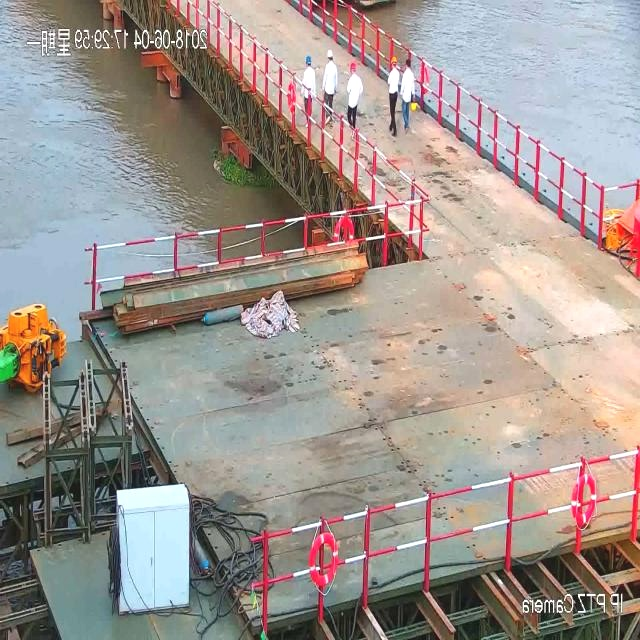Con_Casco: (349, 62, 356, 75), (327, 49, 333, 62), (390, 57, 397, 68), (306, 56, 312, 67)
